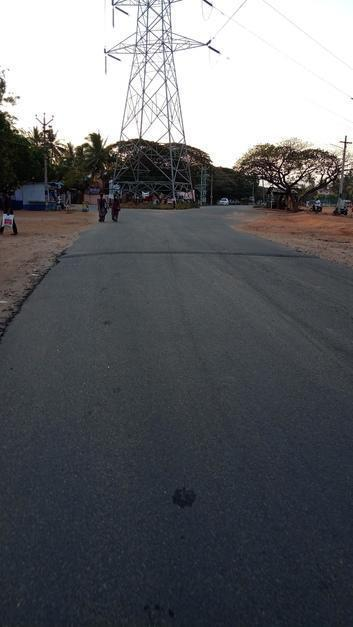speedbreaker: (47, 246, 316, 264)
